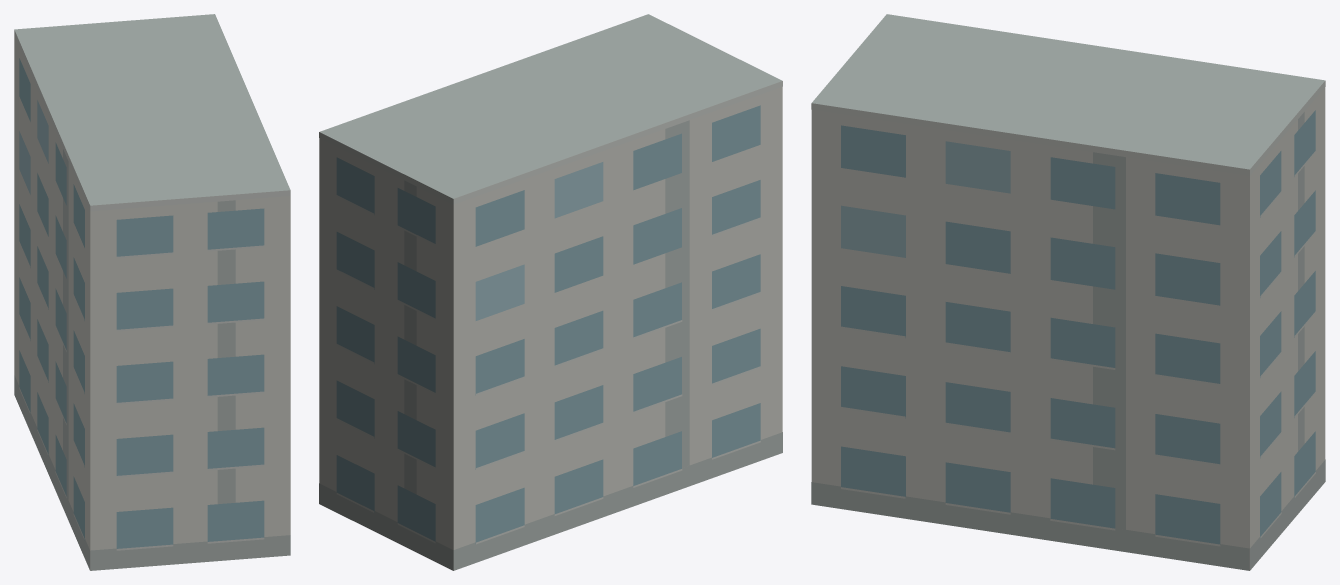
The model's file is residential-226c13f7-0de2-41b4-8e57-e72af2869bdf.glb.
3 renders of one model, left to right at view 1: azimuth 30°, elevation 25°; view 2: azimuth 150°, elevation 25°; view 3: azimuth 270°, elevation 25°, orthographic. The views are drawn at different scales.
Visible parts, largest first — view 1: residential-226c13f7-0de2-41b4-8e57-e72af2869bdf.tmp; view 2: residential-226c13f7-0de2-41b4-8e57-e72af2869bdf.tmp; view 3: residential-226c13f7-0de2-41b4-8e57-e72af2869bdf.tmp.
Part boxes in pixels (left/top/right/bottom): residential-226c13f7-0de2-41b4-8e57-e72af2869bdf.tmp: left=14, top=14, right=290, bottom=570; residential-226c13f7-0de2-41b4-8e57-e72af2869bdf.tmp: left=319, top=14, right=782, bottom=570; residential-226c13f7-0de2-41b4-8e57-e72af2869bdf.tmp: left=811, top=14, right=1325, bottom=570.
Size of the model in its own units: 12.68 by 15.25 by 17.71.
